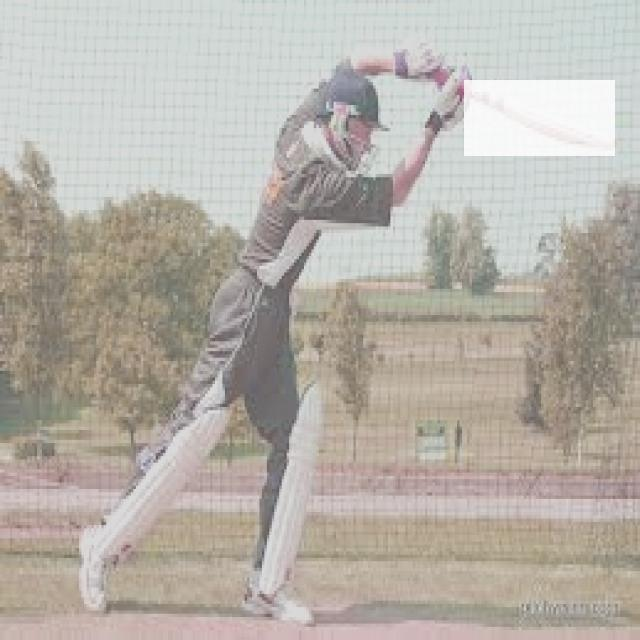bat: (462, 79, 618, 160)
